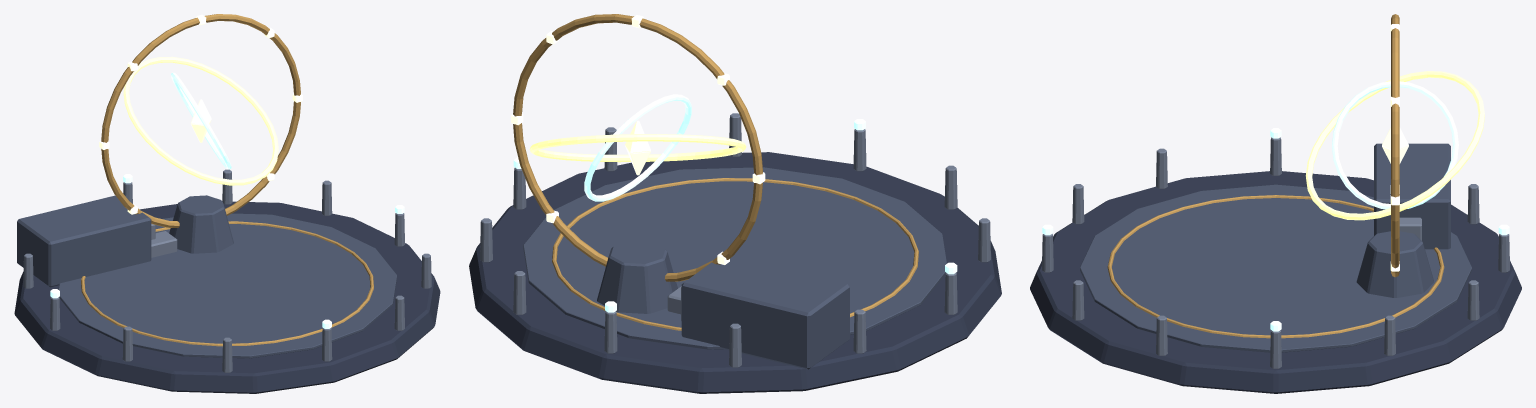
Rendered from star_astrolabe.glb.
3 views of the same model, side by side, from view 1: azimuth 30°, elevation 25°; view 2: azimuth 150°, elevation 25°; view 3: azimuth 270°, elevation 25° (orthographic). The views are drawn at different scales.
Visible parts, largest first — view 1: ObservatoryRoot_Merged, AstrolabeOuter_Merged, RingMidMesh, AstrolabeInner_Merged; view 2: ObservatoryRoot_Merged, AstrolabeOuter_Merged, RingMidMesh, AstrolabeInner_Merged; view 3: ObservatoryRoot_Merged, RingMidMesh, AstrolabeInner_Merged, AstrolabeOuter_Merged.
Part boxes in pixels (x1,y1,x2,y2): ObservatoryRoot_Merged: (14,169,440,393); AstrolabeOuter_Merged: (99,14,302,227); RingMidMesh: (123,56,278,185); AstrolabeInner_Merged: (170,72,231,169); ObservatoryRoot_Merged: (469,113,1001,393); AstrolabeOuter_Merged: (511,14,765,281); RingMidMesh: (529,134,746,162); AstrolabeInner_Merged: (584,94,691,201); ObservatoryRoot_Merged: (1030,128,1521,393); RingMidMesh: (1305,71,1484,220); AstrolabeInner_Merged: (1332,81,1458,209); AstrolabeOuter_Merged: (1390,14,1399,277).
Bounding box in the file's own units: 11.53 × 7.23 × 11.53.
